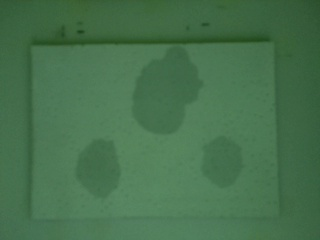Water_detected: (136, 60, 191, 132), (87, 151, 119, 191), (207, 150, 234, 172)
